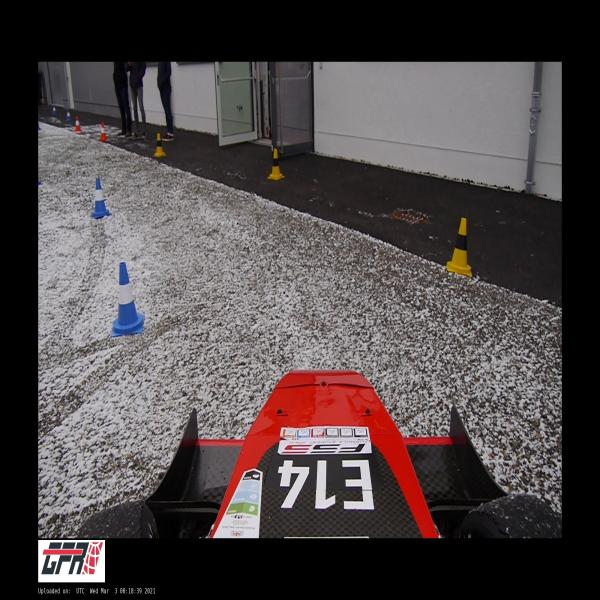blue_cone: (111, 262, 145, 336), (91, 178, 112, 218), (66, 110, 71, 121), (53, 105, 56, 114), (38, 124, 42, 130)
orange_cone: (99, 122, 108, 140), (74, 116, 82, 131)
yellow_cone: (447, 218, 472, 277), (268, 150, 284, 180), (154, 132, 165, 157)
